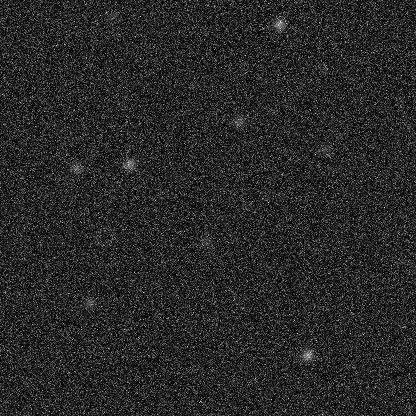Ring: (92, 224, 116, 248)
Spot: (317, 141, 333, 157), (103, 7, 119, 23), (121, 156, 137, 172), (231, 112, 247, 128), (81, 294, 97, 310), (197, 234, 213, 250), (67, 159, 83, 175), (271, 16, 287, 32), (299, 346, 315, 362)
